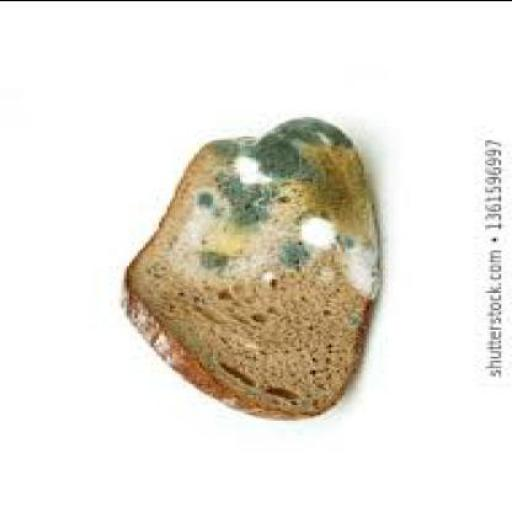biodegradable: (118, 118, 380, 421)
